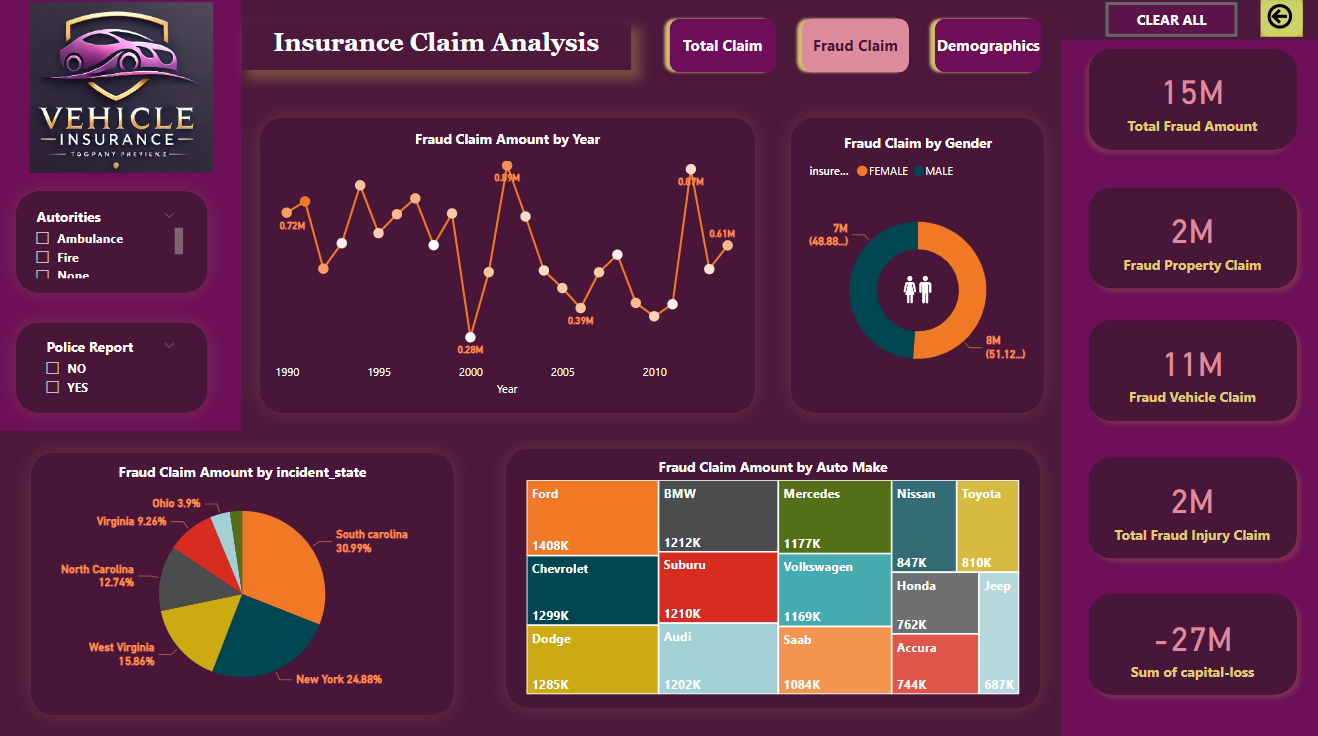

What the dashboard file says about the page in this screenshot:
{"tool":"powerbi","page":{"name":"Fraud Claim","canvas":[1280,720],"ordinal":1},"visuals":[{"type":"shape","box":[0,0,235.2,418.5],"z":0},{"type":"shape","box":[1026.6,40.9,252.6,678.6],"z":1000},{"type":"shape","box":[14.5,422.1,442.6,288.2],"z":2000},{"type":"shape","box":[235.2,98.9,512.6,319.6],"z":3000},{"type":"textbox","box":[235.2,25.3,375.1,44.6],"z":4000},{"type":"pageNavigator","box":[640.4,13.3,375.1,67.5],"z":5000},{"type":"image","box":[18.1,0,201.4,174.9],"z":6000},{"type":"shape","box":[1043.1,303.1,219.1,115.6],"z":7000},{"type":"shape","box":[1043.1,435.8,219.1,115.6],"z":8000},{"type":"shape","box":[1043.1,567.2,219.1,115.6],"z":9000},{"type":"shape","box":[1043.1,175.3,219.1,115.6],"z":10000},{"type":"shape","box":[1043.1,41.4,219.1,115.6],"z":11000},{"type":"card","fields":{"Values":["InsuranceClaims.Total Fraud Amount"]},"box":[1067.5,56,170.4,86.4],"z":12000},{"type":"card","fields":{"Values":["InsuranceClaims.Fraud_PropertyClaimAmount"]},"box":[1067.5,189.9,170.4,86.4],"z":13000},{"type":"card","fields":{"Values":["InsuranceClaims.Fraud_VehicleClaimAmount"]},"box":[1067.5,317.7,170.4,86.4],"z":14000},{"type":"card","fields":{"Values":["InsuranceClaims.Fraud_InjuryClaimAmount"]},"box":[1067.5,451.6,170.4,84],"z":15000},{"type":"shape","box":[0,170.1,219.5,132.7],"z":16000},{"type":"card","fields":{"Values":["Sum(InsuranceClaims.capital-loss)"]},"box":[1067.5,584.3,170.4,84],"z":17000},{"type":"shape","box":[472.8,418.5,549.9,284.6],"z":18000},{"type":"pieChart","title":"Fraud Claim Amount by incident_state","fields":{"Category":["InsuranceClaims.incident_state"],"Y":["InsuranceClaims.Fraud_ClaimAmount"]},"box":[39.8,448.6,392,237.6],"z":19000},{"type":"lineChart","title":"Fraud Claim Amount by Year","fields":{"Y":["InsuranceClaims.Fraud_ClaimAmount"],"Category":["DateMaster.Date.Variation.Date Hierarchy.Year","DateMaster.Date.Variation.Date Hierarchy.Month"]},"box":[261.7,127.8,459.5,261.7],"z":20000},{"type":"shape","box":[747.7,98.9,278.6,319.6],"z":21000},{"type":"treemap","title":"Fraud Claim Amount by Auto Make","fields":{"Values":["InsuranceClaims.Fraud_ClaimAmount"],"Group":["InsuranceClaims.auto_make"]},"box":[505.3,443.8,484.8,234],"z":22000},{"type":"donutChart","title":"Fraud Claim by Gender","fields":{"Category":["InsuranceClaims.insured_sex"],"Y":["InsuranceClaims.Fraud_ClaimAmount"]},"box":[777.9,131.5,219.5,258.1],"z":23000},{"type":"slicer","fields":{"Values":["InsuranceClaims.authorities_contacted"]},"box":[24.1,197.8,159.2,78.4],"z":24000},{"type":"shape","box":[0,296.7,219.5,121.8],"z":25000},{"type":"slicer","fields":{"Values":["InsuranceClaims.police_report_available"]},"box":[33.8,323.2,149.5,69.9],"z":26000},{"type":"actionButton","box":[1217.6,0,41,38.1],"z":27000},{"type":"actionButton","title":"CLEAR ALL","box":[1068.1,4.4,127.5,33.7],"z":28000},{"type":"image","box":[859.9,260.5,54.3,43.4],"z":29000}]}

Visuals, with their boxes in screenshot pixels (x1, y1, x2, y2), scaled from the page's 1280x720 canvas onto the 1318x736 screenshot:
shape: [0,0,242,428]
shape: [1057,42,1317,735]
shape: [15,431,471,726]
shape: [242,101,770,428]
textbox: [242,26,628,71]
pageNavigator: [659,14,1046,83]
image: [19,0,226,179]
shape: [1074,310,1300,428]
shape: [1074,445,1300,564]
shape: [1074,580,1300,698]
shape: [1074,179,1300,297]
shape: [1074,42,1300,160]
card - InsuranceClaims.Total Fraud Amount: [1099,57,1275,146]
card - InsuranceClaims.Fraud_PropertyClaimAmount: [1099,194,1275,282]
card - InsuranceClaims.Fraud_VehicleClaimAmount: [1099,325,1275,413]
card - InsuranceClaims.Fraud_InjuryClaimAmount: [1099,462,1275,548]
shape: [0,174,226,310]
card - Sum(InsuranceClaims.capital-loss): [1099,597,1275,683]
shape: [487,428,1053,719]
"Fraud Claim Amount by incident_state" pieChart: [41,459,445,701]
"Fraud Claim Amount by Year" lineChart: [269,131,743,398]
shape: [770,101,1057,428]
"Fraud Claim Amount by Auto Make" treemap: [520,454,1019,693]
"Fraud Claim by Gender" donutChart: [801,134,1027,398]
slicer - InsuranceClaims.authorities_contacted: [25,202,189,282]
shape: [0,303,226,428]
slicer - InsuranceClaims.police_report_available: [35,330,189,402]
actionButton: [1254,0,1296,39]
"CLEAR ALL" actionButton: [1100,4,1231,39]
image: [885,266,941,311]
